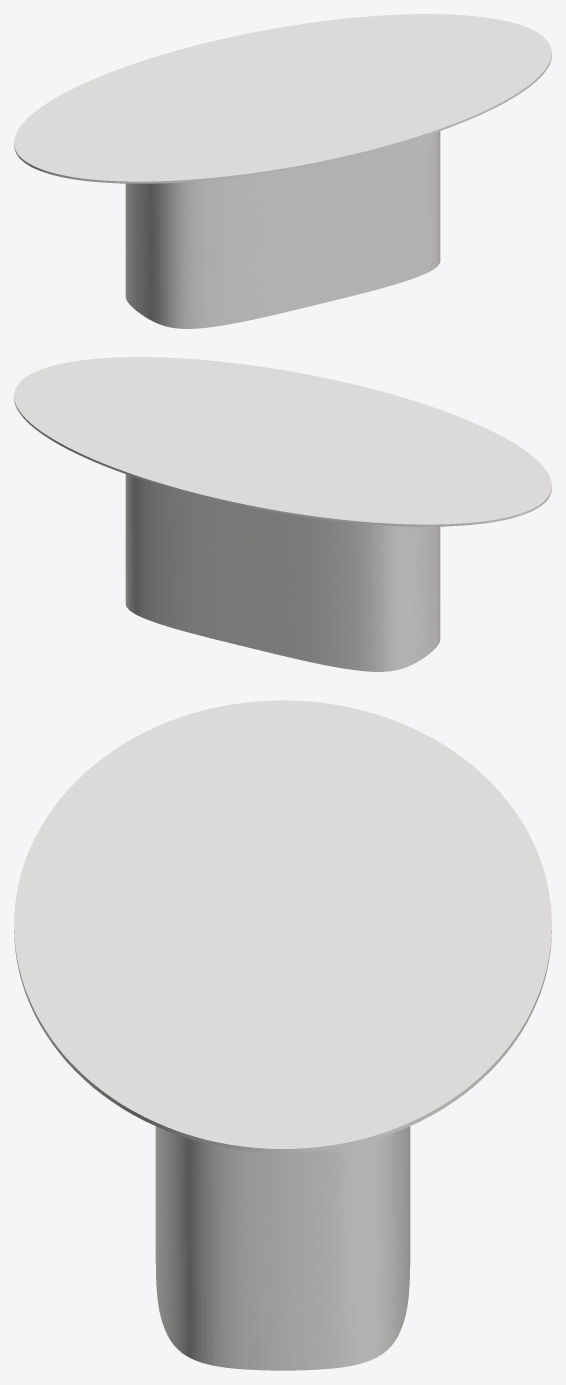
File: purewhite_ellips_facet_fixed.glb
3 renders of one model, top to bottom at view 1: azimuth 30°, elevation 25°; view 2: azimuth 150°, elevation 25°; view 3: azimuth 270°, elevation 25°, orthographic. The views are drawn at different scales.
Visible parts, largest first — view 1: facet_ellips, fixed; view 2: facet_ellips, fixed; view 3: facet_ellips, fixed.
Boxes of the visible parts, box(x1,y1,x2,y2) form: facet_ellips: box(14, 14, 551, 183); fixed: box(125, 131, 440, 328); facet_ellips: box(14, 357, 551, 526); fixed: box(125, 474, 440, 671); facet_ellips: box(14, 700, 551, 1152); fixed: box(155, 1126, 410, 1370).
Bounding box in the file's own units: 7.5 × 2.5 × 3.8.
1 material, 1 textured.
